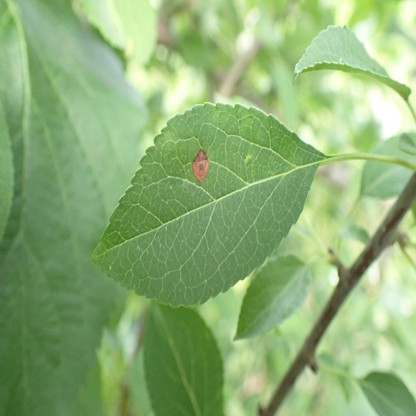frogeye_leaf_spot: (193, 150, 209, 180)
